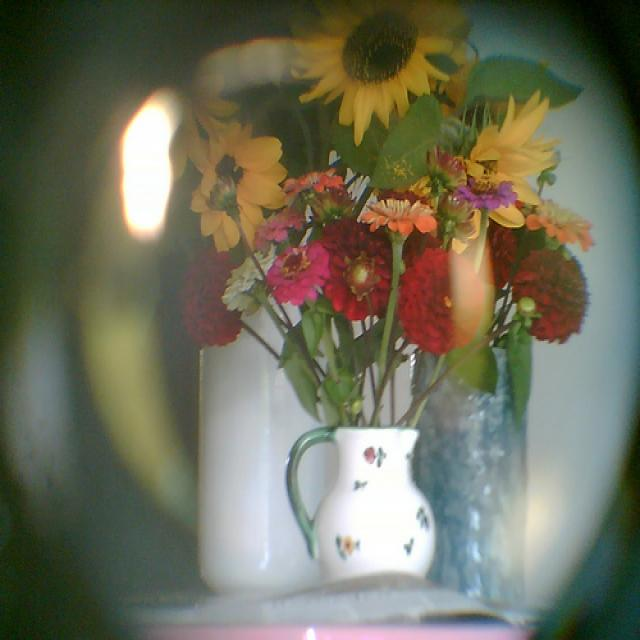sunflower: (297, 1, 473, 130), (182, 120, 286, 246), (462, 84, 555, 224)
